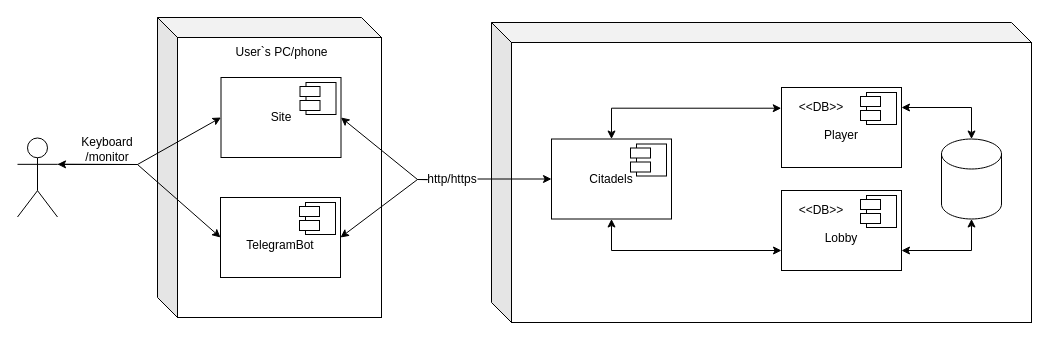
This 1049x348 diagram has some shape labels left out. Each missing label, with the centre of its shape:
"MongoDB" goes at (971,178).
"User" goes at (37,177).
